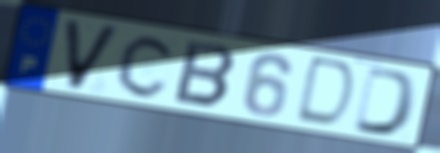6: (241, 52, 293, 118)
B: (171, 38, 239, 110)
C: (114, 33, 179, 100)
D: (350, 64, 421, 139), (291, 54, 359, 131)
V: (61, 17, 124, 94)
